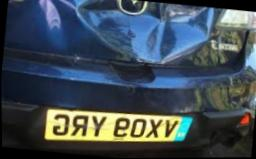Dickey: (5, 0, 221, 64)
